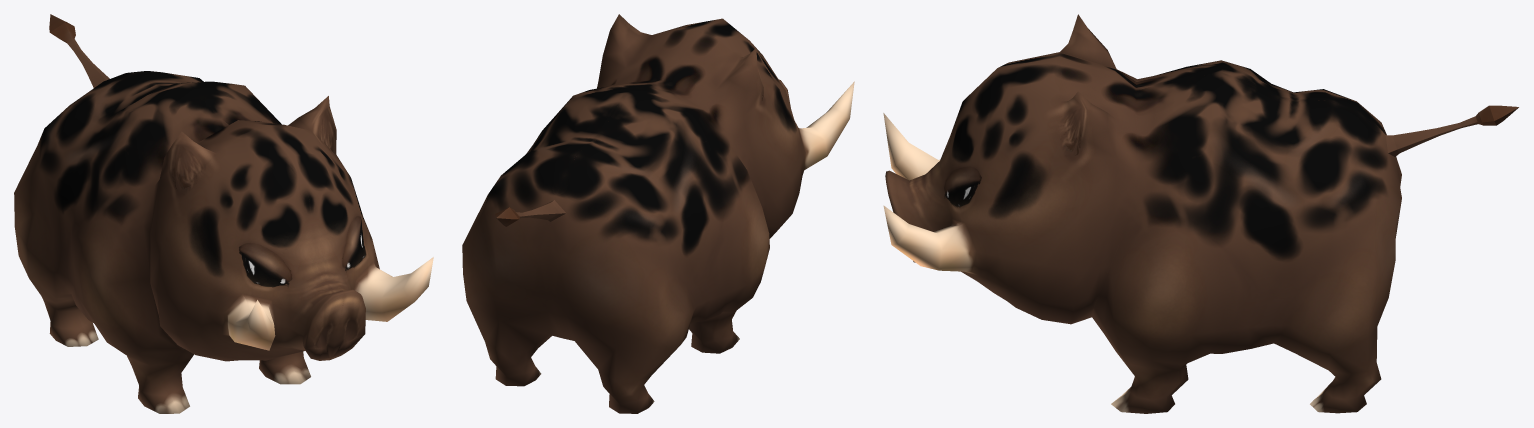
The model's file is Wild_boar_stand2.FBX.
The picture shows the model from 3 angles, left to right: view 1: azimuth 30°, elevation 25°; view 2: azimuth 150°, elevation 25°; view 3: azimuth 270°, elevation 25°; orthographic projection. The views are drawn at different scales.
Parts seen in each view (by area): view 1: Box001; view 2: Box001; view 3: Box001.
Boxes of the visible parts, x1,y1,x2,y2 form: Box001: (14, 14, 433, 413); Box001: (462, 14, 854, 413); Box001: (883, 14, 1518, 413).
Size of the model in its own units: 109 by 129 by 233.
